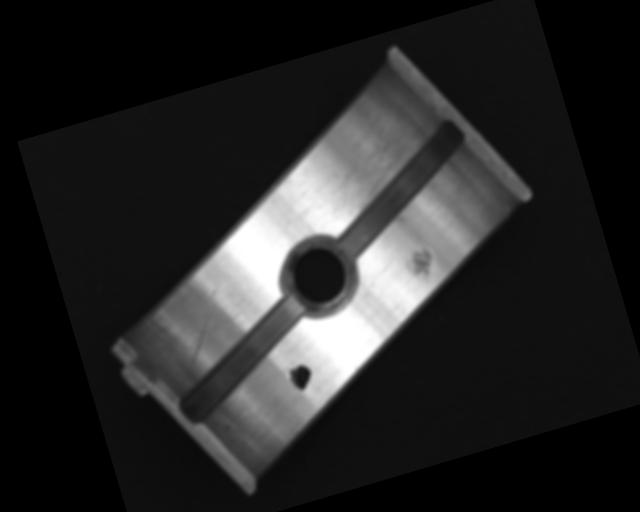blot: (286, 361, 316, 394)
bruise: (405, 244, 439, 287)
gap: (314, 116, 487, 263), (160, 294, 326, 427)
hole: (274, 228, 362, 324)
nick: (171, 282, 239, 368)
scratch: (306, 95, 446, 220)
